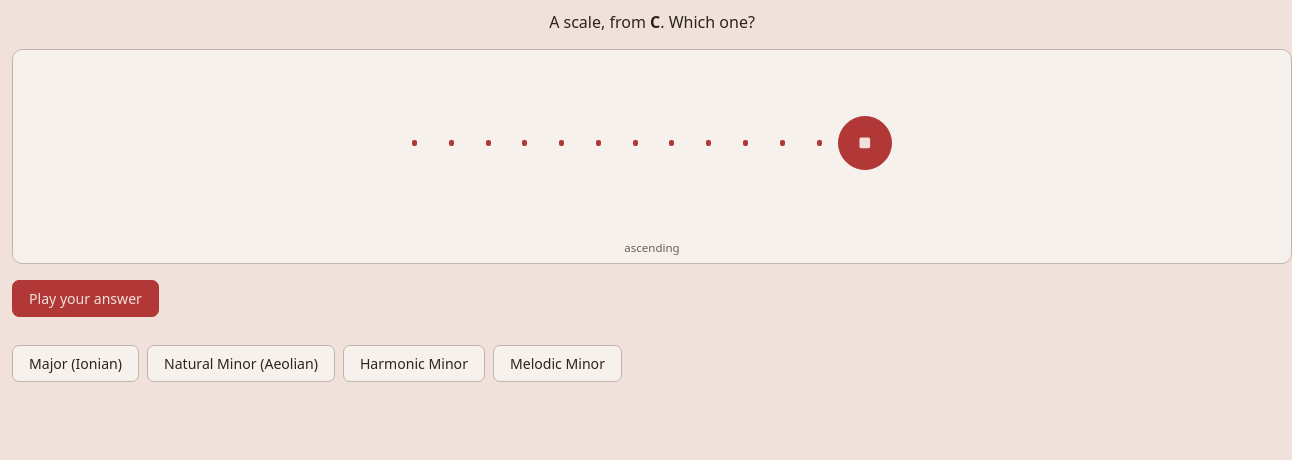
it: answering a scale by playing it › does not answer at all when the microphone was refused
Step 1. Click the button "Play your answer" → (85, 298), box x1=12 y1=280 x2=159 y2=317
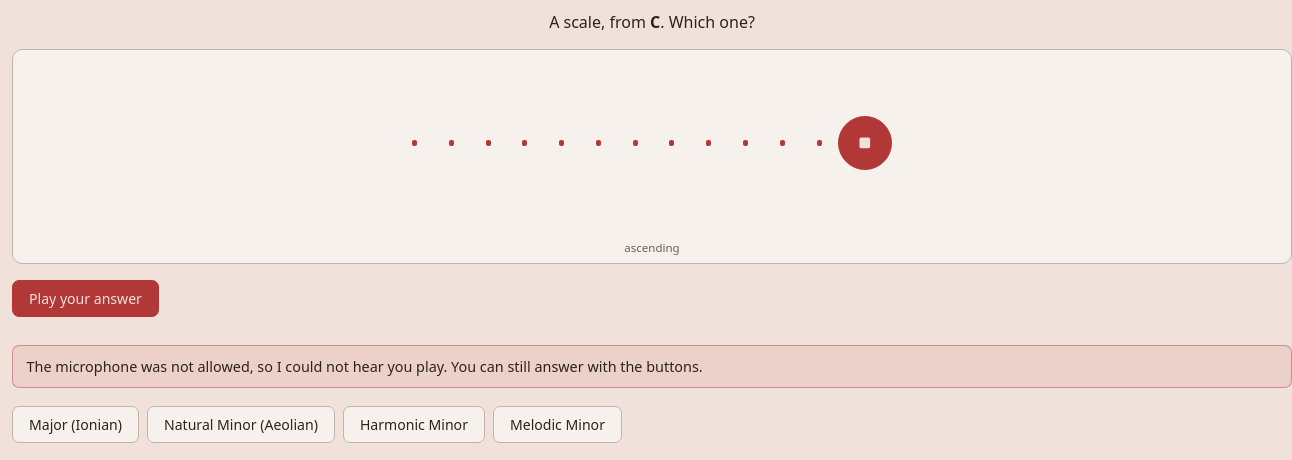
Check: the text "microphone" is shown, box x1=27 y1=357 x2=703 y2=376
